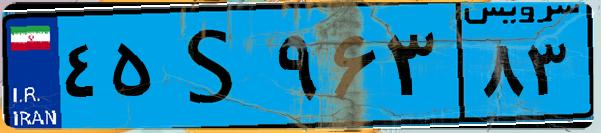3: (385, 28, 445, 110), (525, 38, 570, 115)
4: (57, 26, 110, 100)
5: (110, 28, 158, 98)
6: (330, 28, 385, 110)
8: (475, 38, 525, 113)
9: (270, 28, 330, 110)
S: (158, 12, 270, 120)
